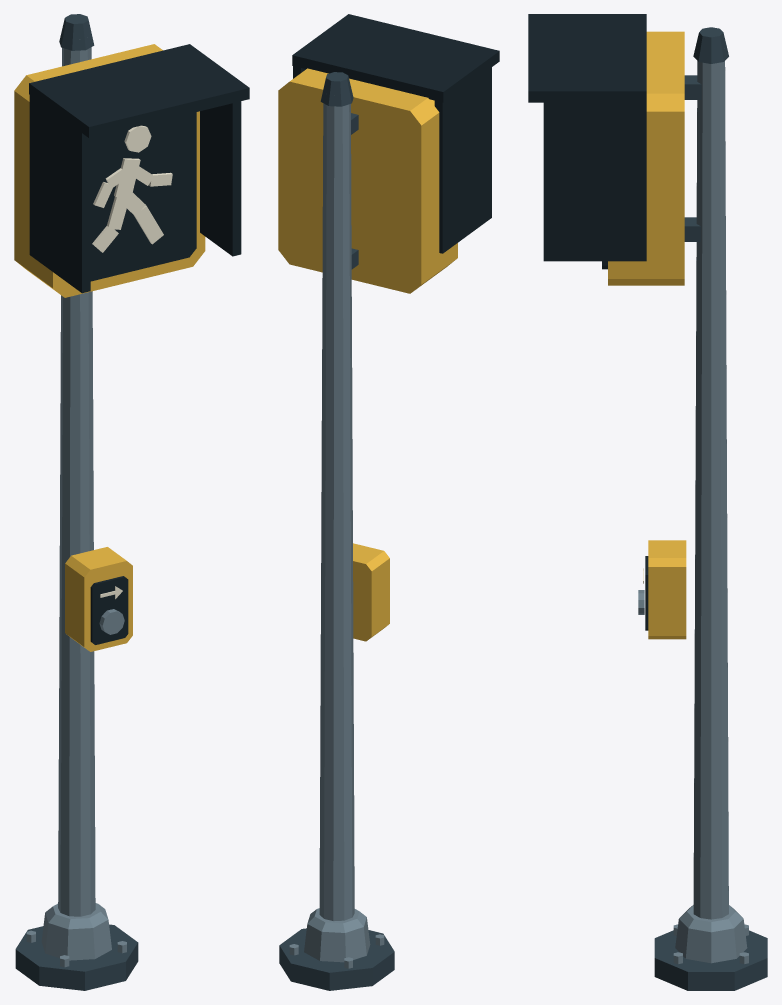
Rendered from pedestrian_signal.glb.
The picture shows the model from 3 angles, left to right: view 1: azimuth 30°, elevation 25°; view 2: azimuth 150°, elevation 25°; view 3: azimuth 270°, elevation 25°; orthographic projection. The views are drawn at different scales.
Visible parts, largest first — view 1: pedestrian_signal; view 2: pedestrian_signal; view 3: pedestrian_signal.
Part boxes in pixels (x1,y1,x2,y2): pedestrian_signal: (14,14,249,990); pedestrian_signal: (278,14,499,990); pedestrian_signal: (528,14,767,990).
Bounding box in the file's own units: 0.48 × 2.7 × 0.6268.
